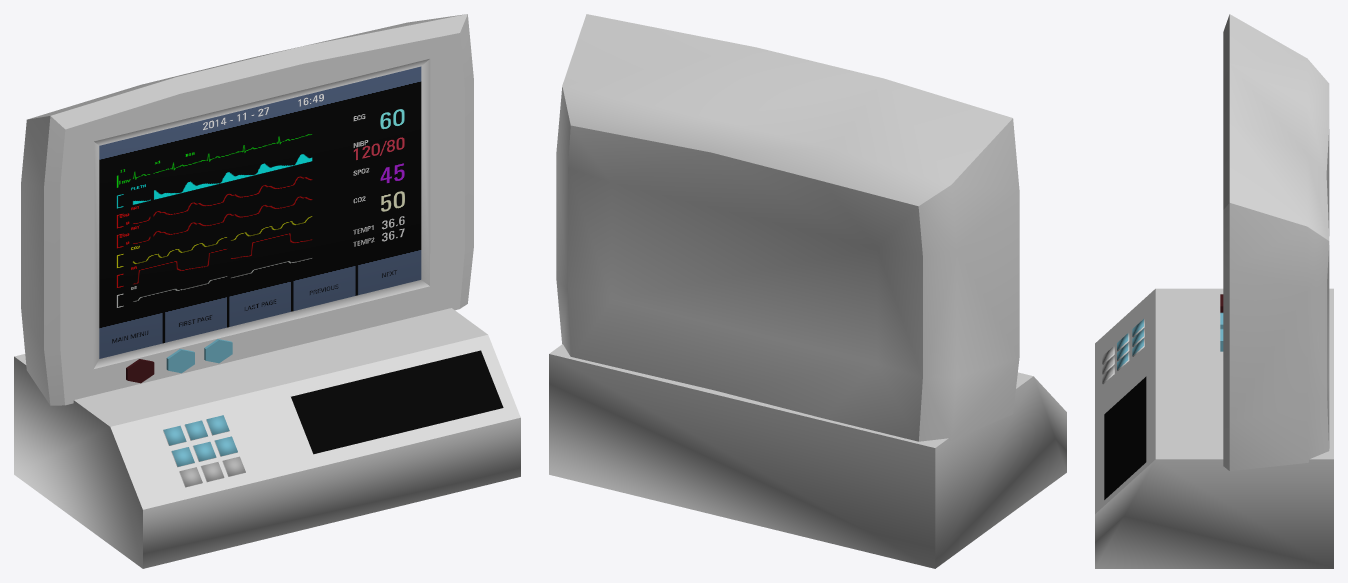
File: cardiac_monitor.dae
3 renders of one model, left to right at view 1: azimuth 30°, elevation 25°; view 2: azimuth 150°, elevation 25°; view 3: azimuth 270°, elevation 25°, orthographic. The views are drawn at different scales.
Parts seen in each view (by area): view 1: Cardiac Monitor; view 2: Cardiac Monitor; view 3: Cardiac Monitor.
Boxes of the visible parts, <box> form: Cardiac Monitor: <box>14,14,520,568</box>; Cardiac Monitor: <box>549,14,1066,568</box>; Cardiac Monitor: <box>1095,14,1333,568</box>.
Size of the model in its own units: 0.5269 by 0.2733 by 0.4834.
